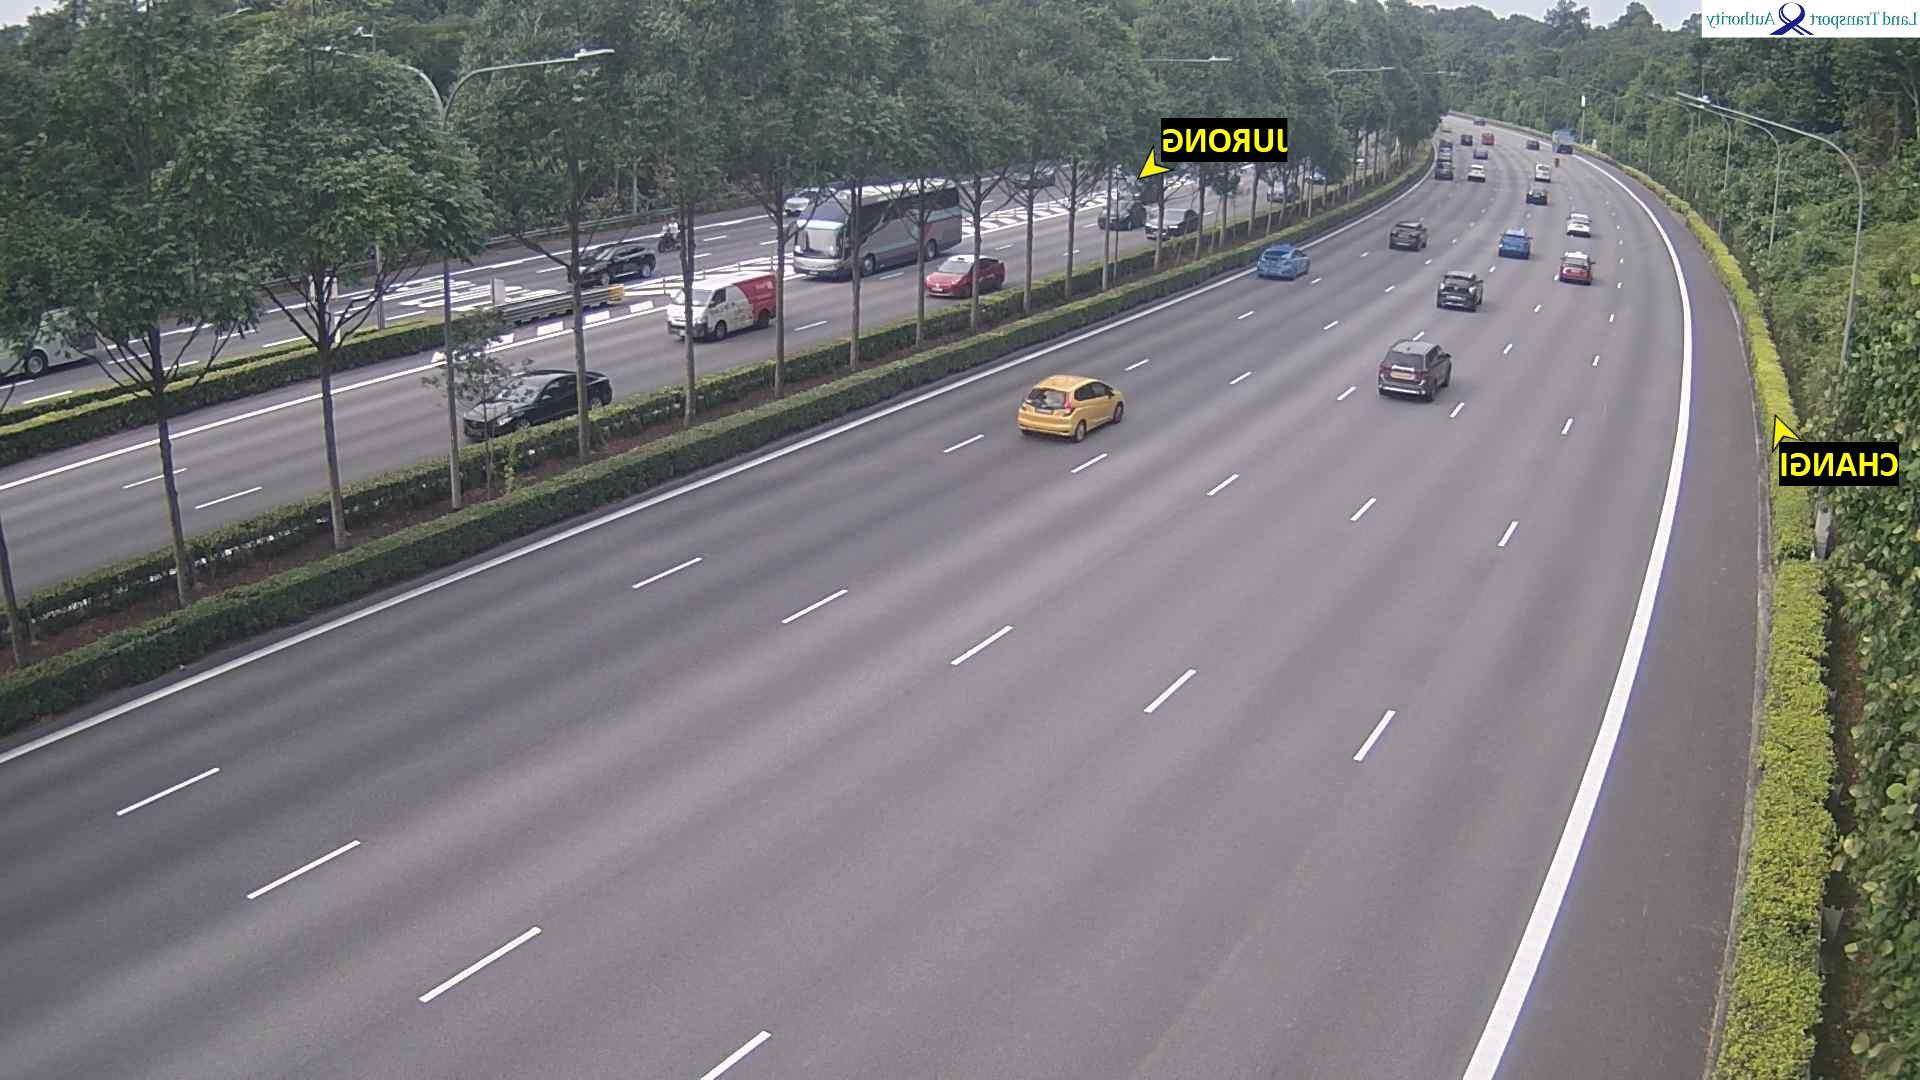incoming: (459, 381, 553, 442), (791, 218, 855, 284), (665, 285, 719, 340), (564, 245, 624, 289), (923, 257, 977, 298), (1145, 210, 1188, 241), (1097, 200, 1138, 232), (782, 187, 823, 218), (651, 224, 679, 255)
